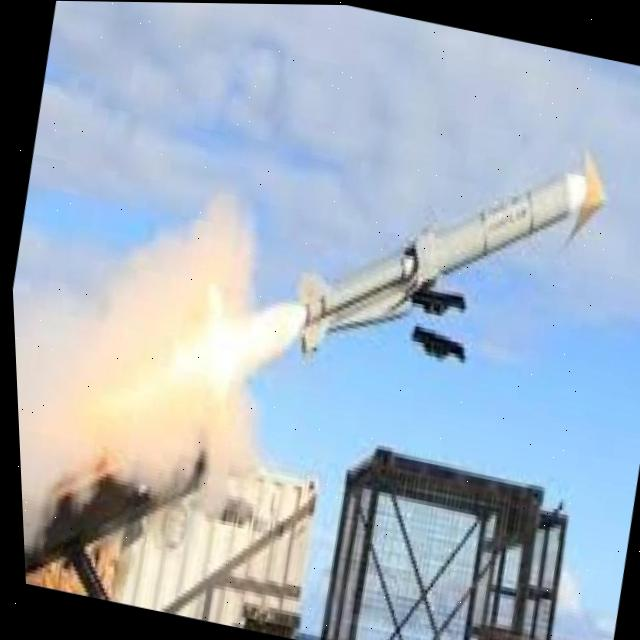missile: (276, 108, 611, 409)
